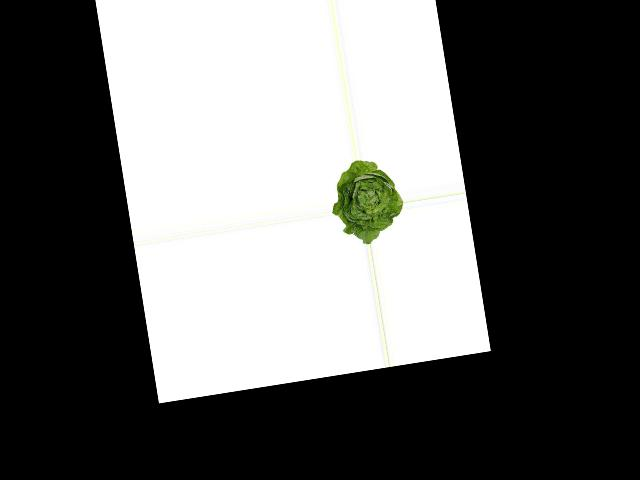lettuce: (325, 154, 407, 246)
